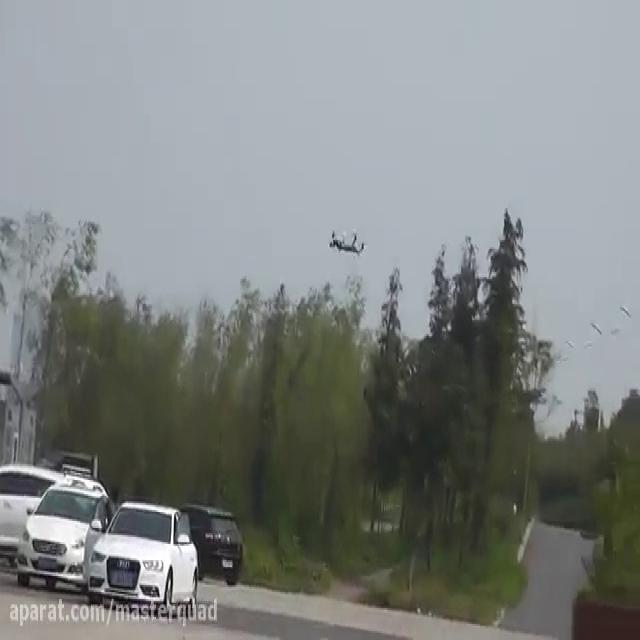drone: (325, 222, 370, 258)
